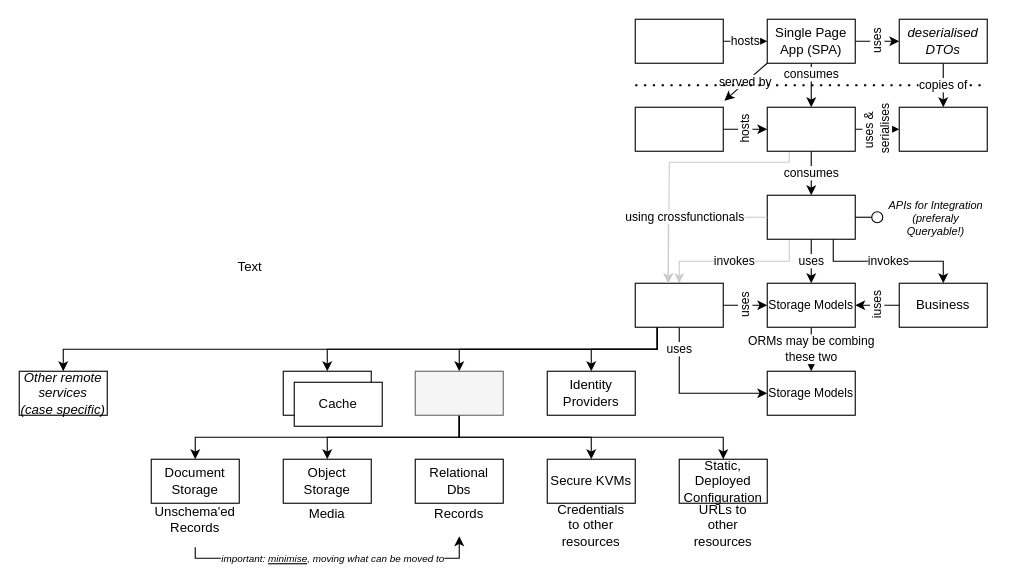
The diagram is 1009 pixels wide and 586 high, and some of its shapes have lost their labels. Here are the shapes that lost their labels. From the top down, the centre of each, then its label:
At (x=678, y=40): "Client Host (Browser)".
At (x=678, y=128): "Server Host (Web Server)".
At (x=810, y=128): "Presentation (APIs or Server Side Rendering)".
At (x=942, y=128): "Domain Transfer Objects (DTOs)".
At (x=810, y=216): "Application Services (Orchestrating)".
At (x=678, y=304): "Infrastructure Services".
At (x=458, y=392): "Sorage".
